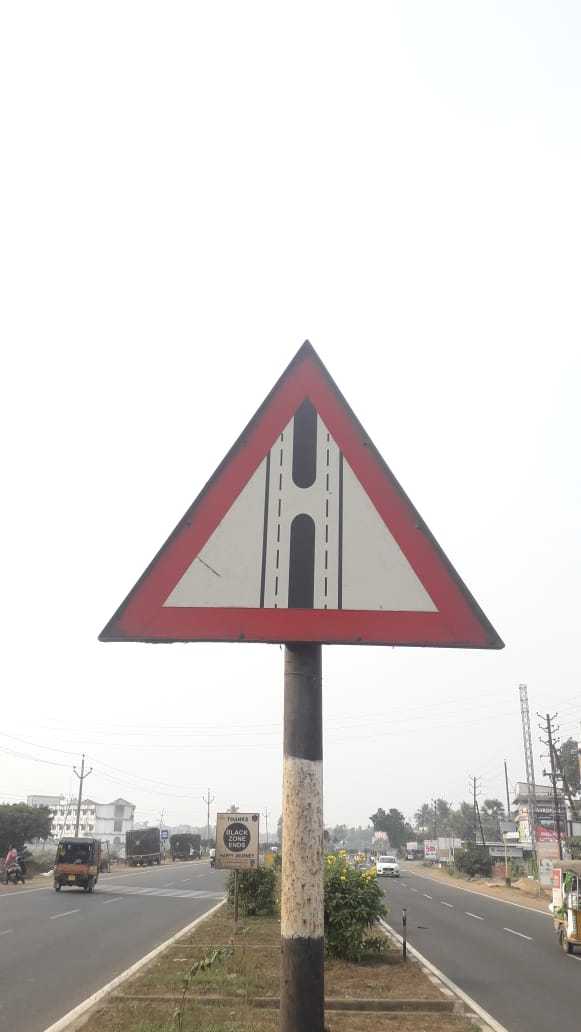highway go straight: (93, 285, 546, 716)
